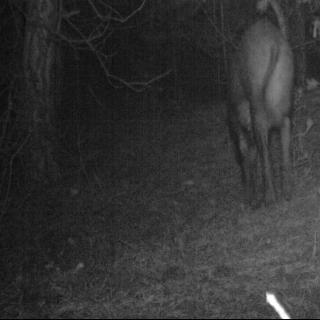Pig: (222, 12, 298, 205)
